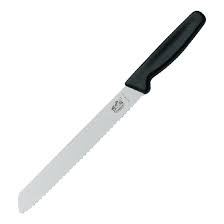breadknife: (18, 11, 205, 214)
